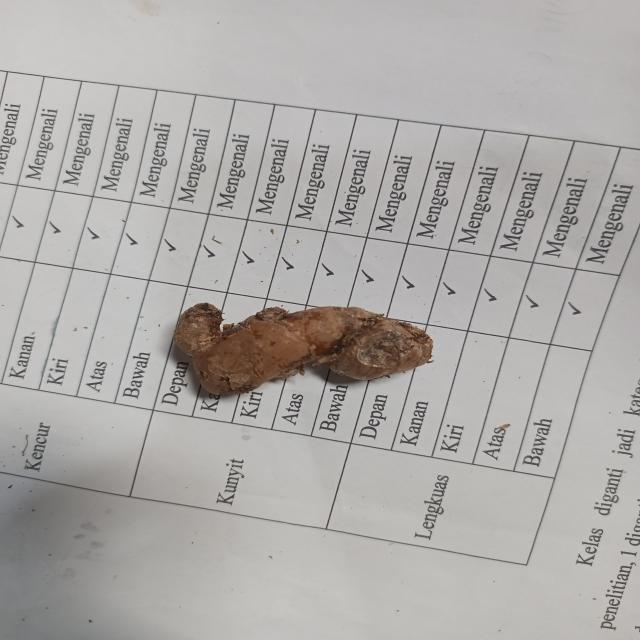ginger: (180, 298, 442, 396)
